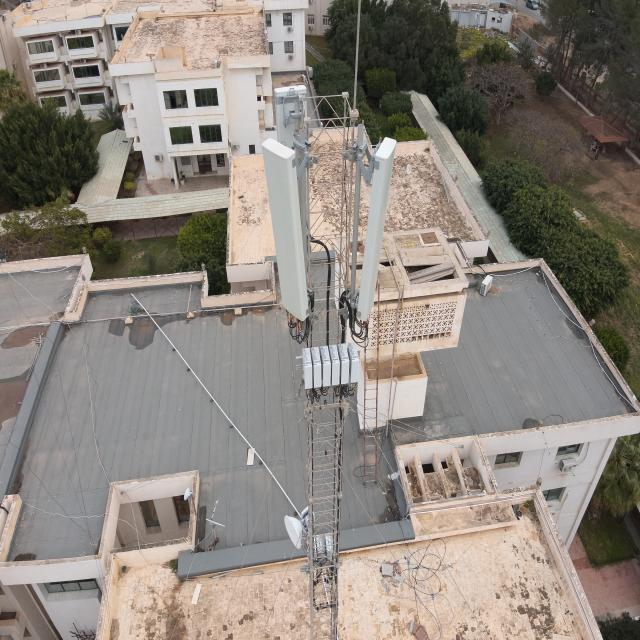antenna: (256, 134, 318, 331), (352, 134, 400, 326), (275, 83, 311, 273)
lighnig-rad: (348, 0, 367, 132)
microware-dish: (284, 500, 312, 552)
power-box: (307, 526, 336, 562)
radio-unit: (300, 334, 363, 403)
